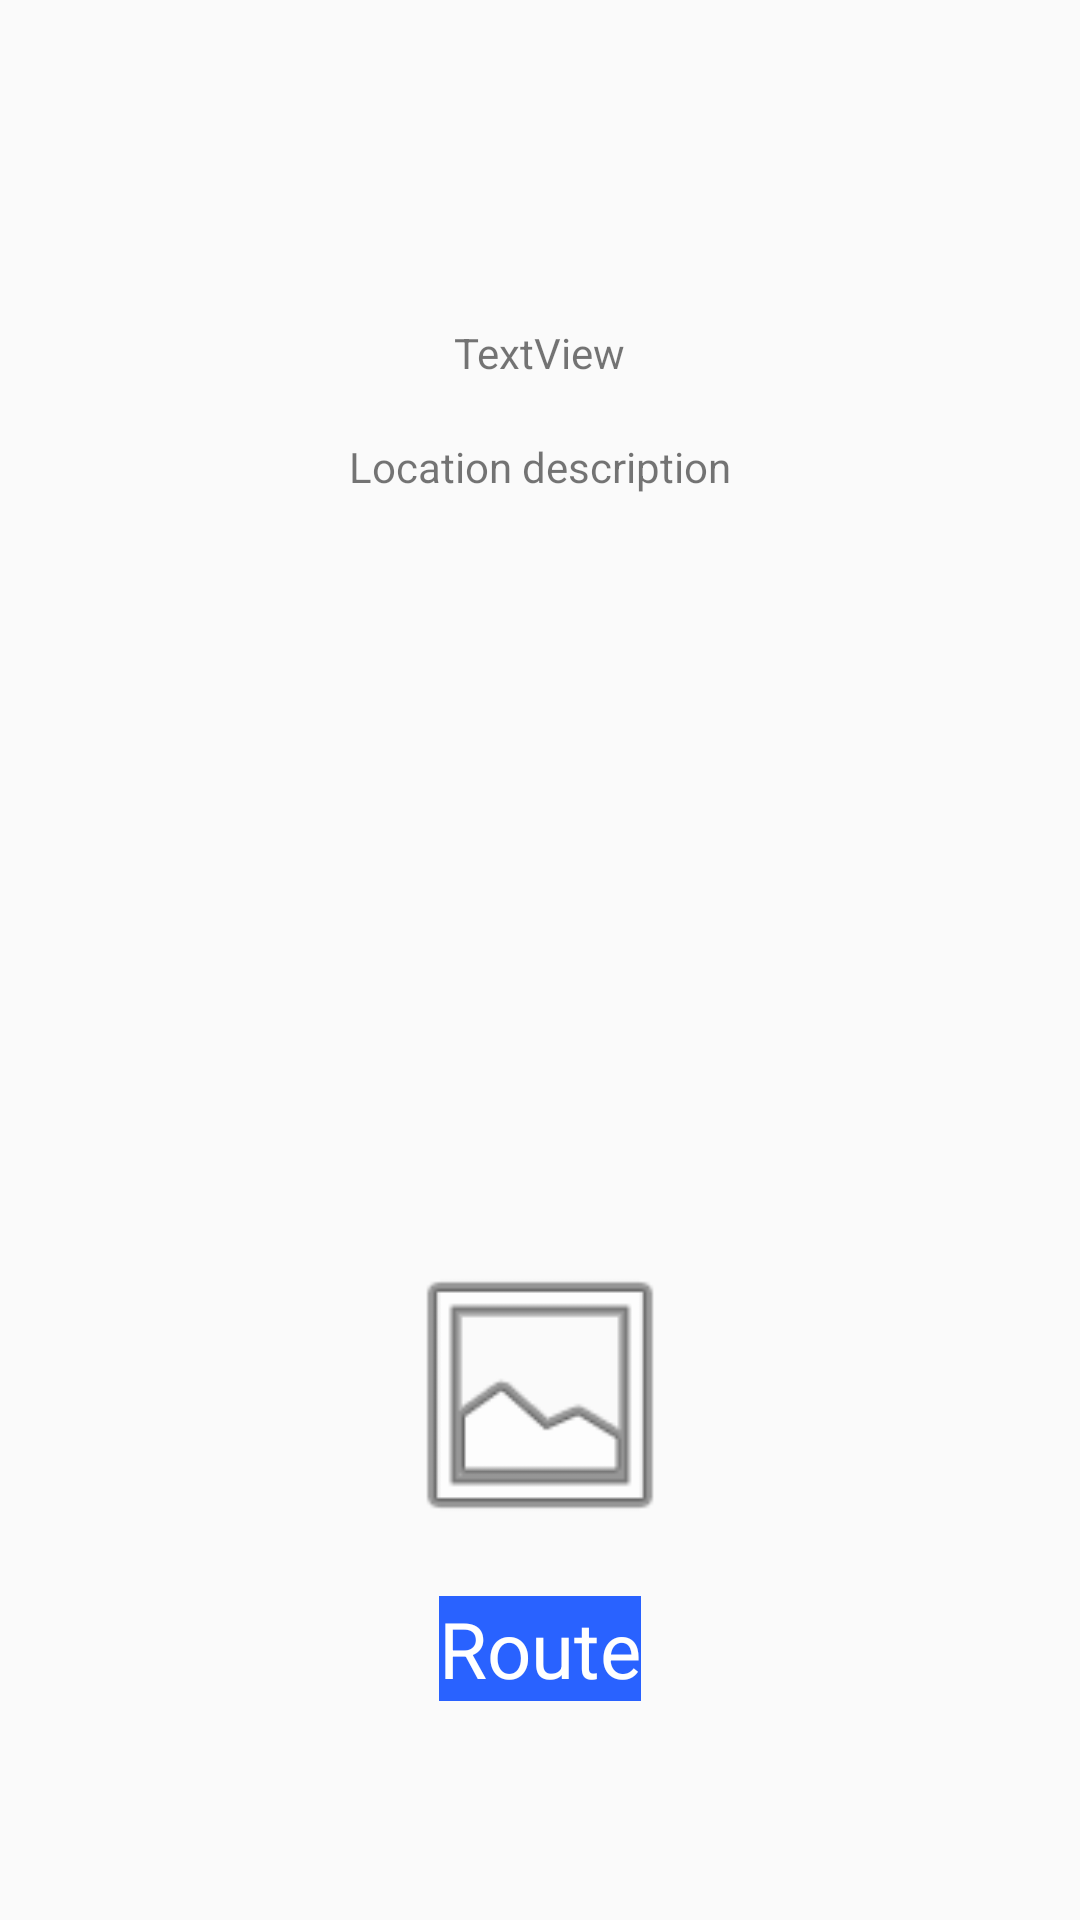

Screen size 1080*1920. Icon name, then its center in pixels as point (x, y):
gallery: point (540, 1395)
